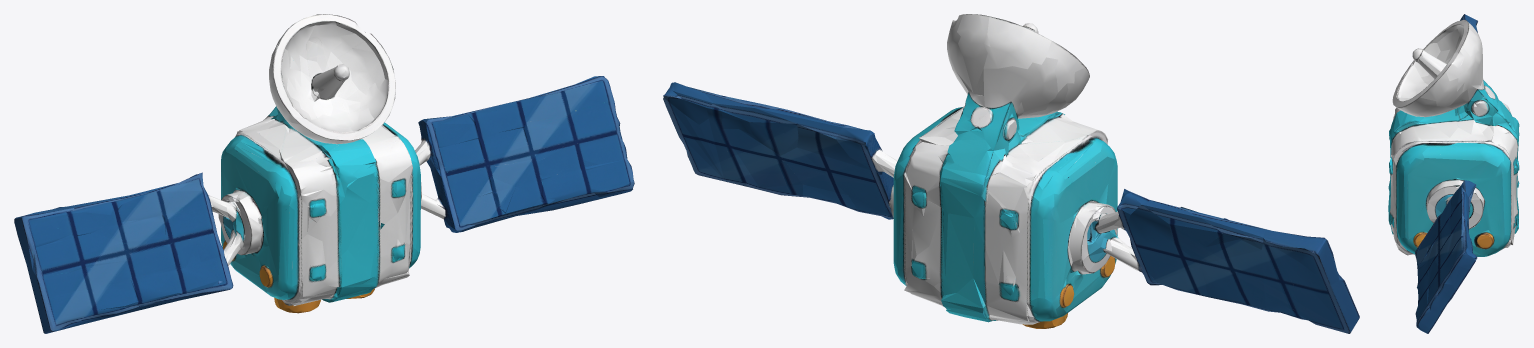
File: satellite.glb
The picture shows the model from 3 angles, left to right: view 1: azimuth 30°, elevation 25°; view 2: azimuth 150°, elevation 25°; view 3: azimuth 270°, elevation 25°; orthographic projection. The views are drawn at different scales.
Visible parts, largest first — view 1: output_unwrapped; view 2: output_unwrapped; view 3: output_unwrapped.
Part boxes in pixels (bbox=[...]): output_unwrapped: bbox=[14, 14, 634, 333]; output_unwrapped: bbox=[663, 14, 1359, 333]; output_unwrapped: bbox=[1388, 14, 1519, 333].
Size of the model in its own units: 1.9 by 0.8436 by 0.4439.
1 material, 1 textured.
